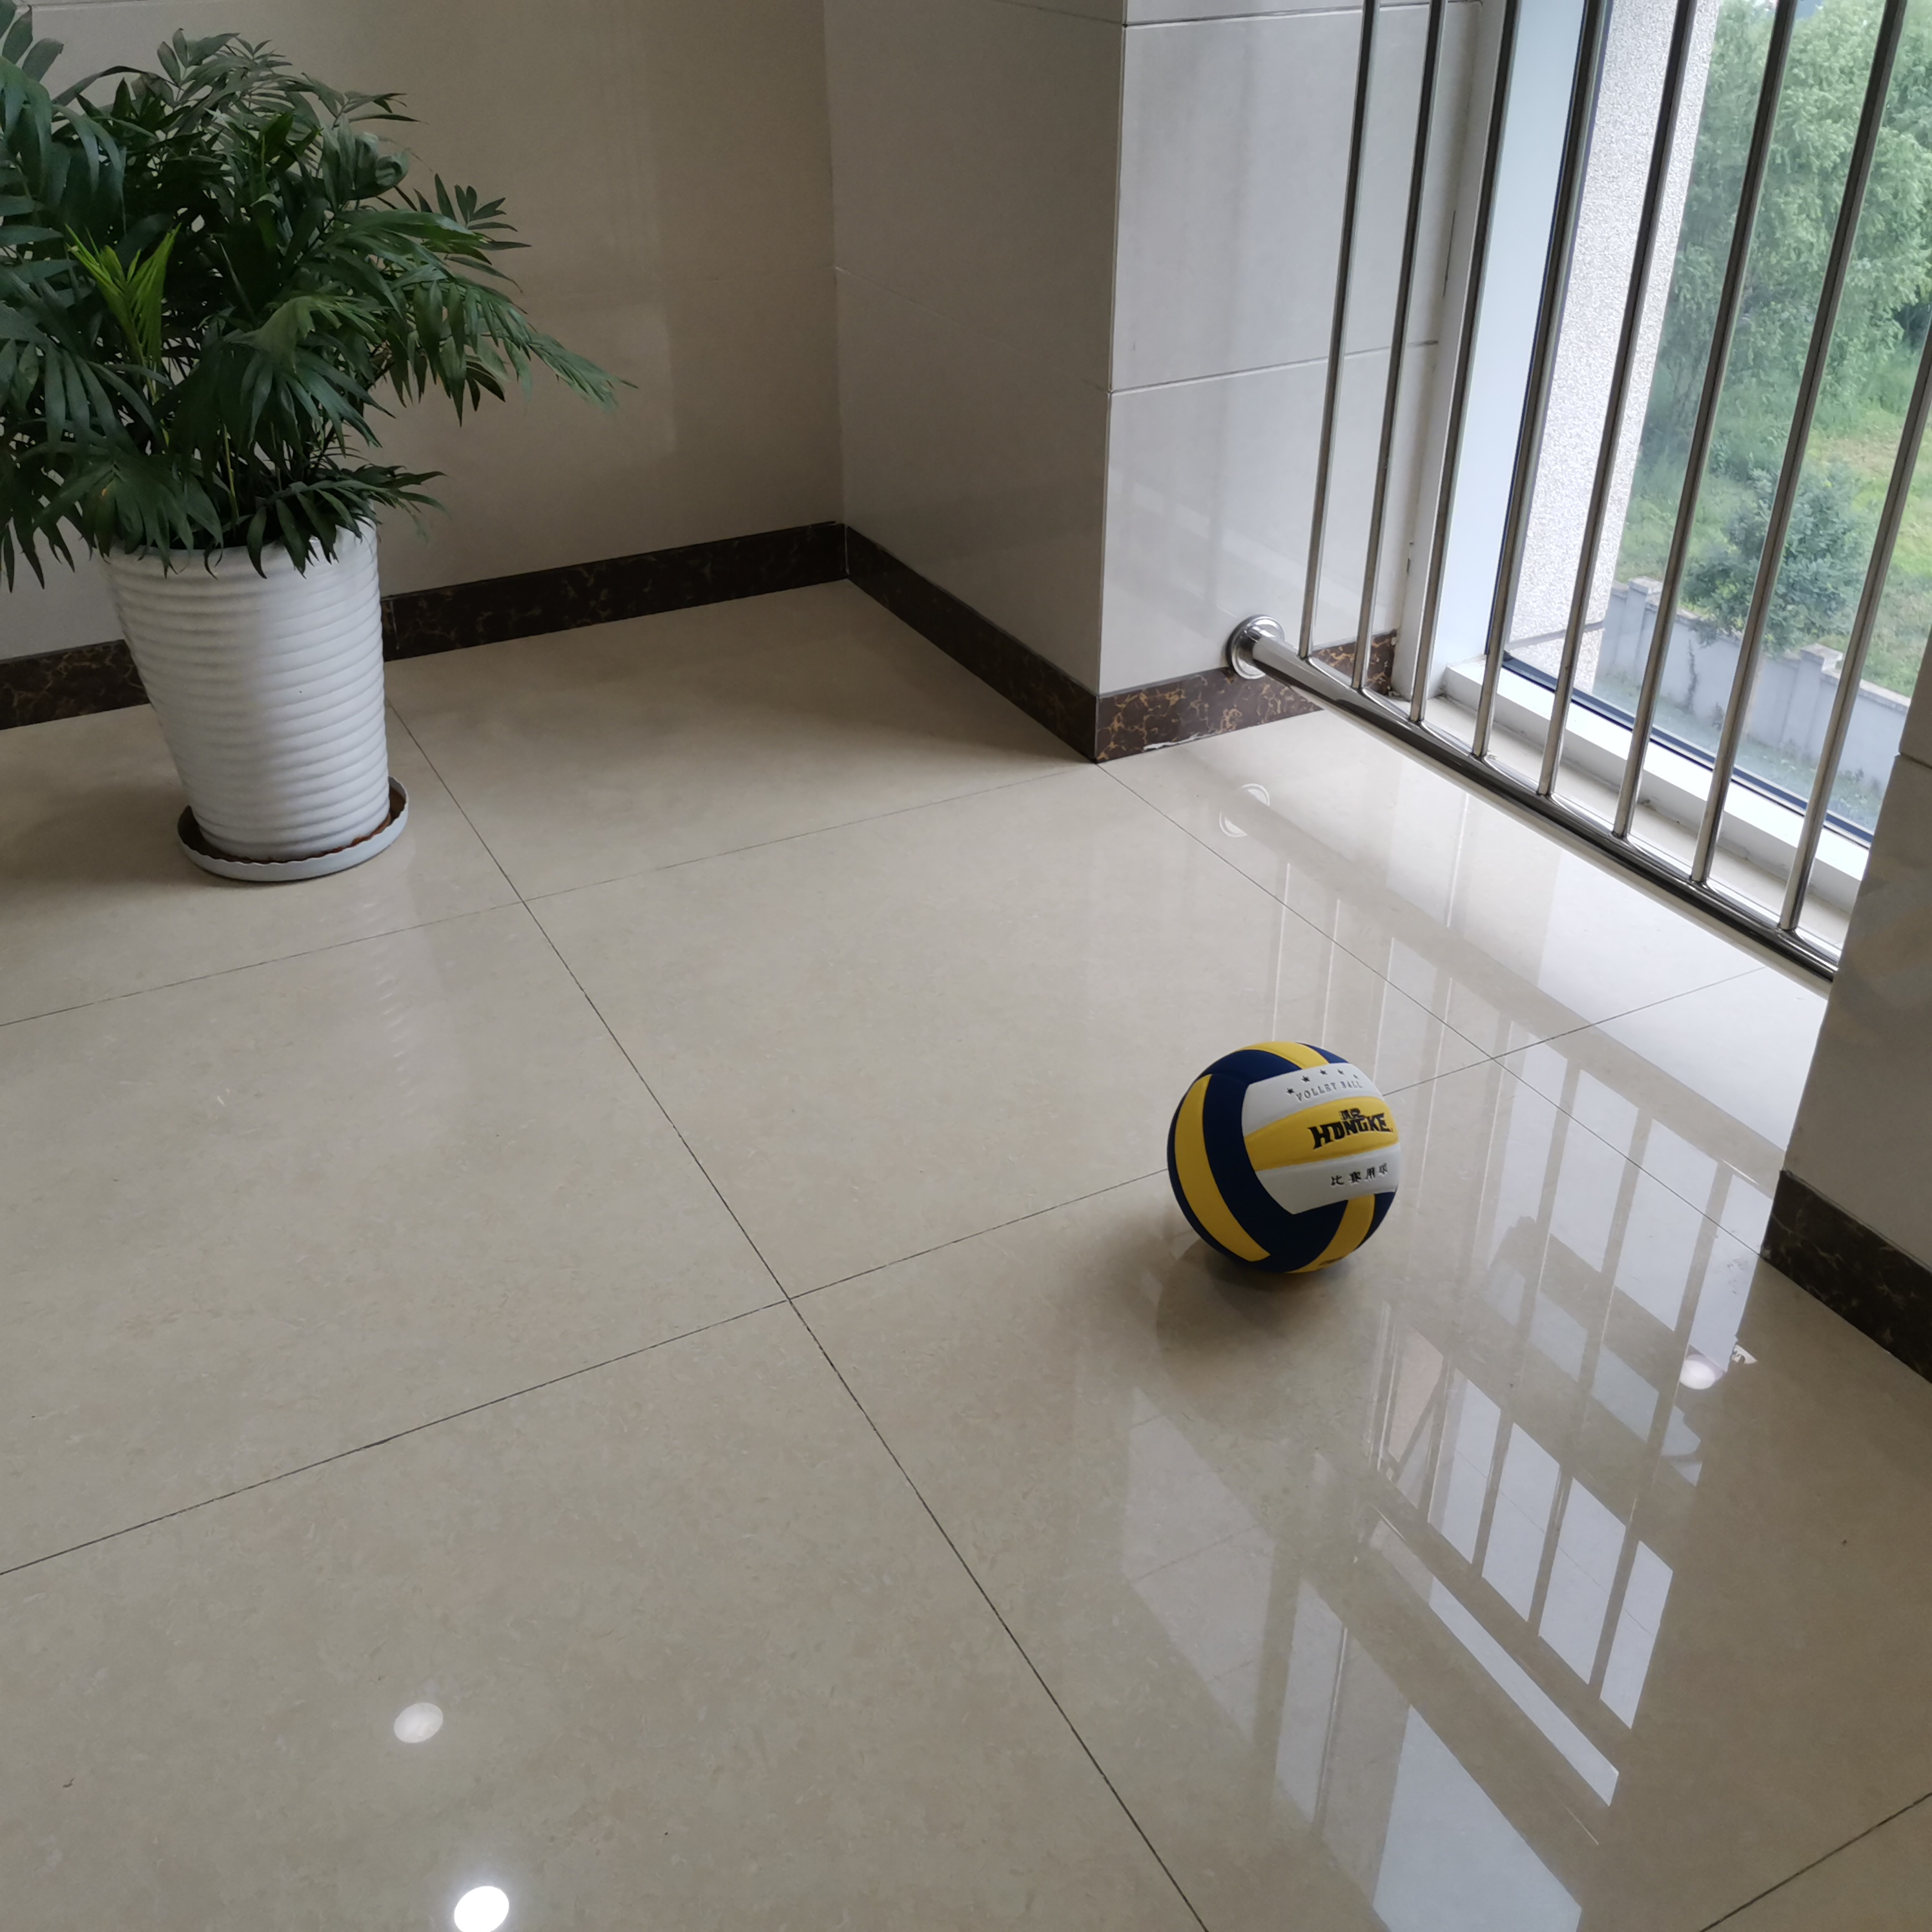volleyball: (1169, 1044, 1401, 1276)
